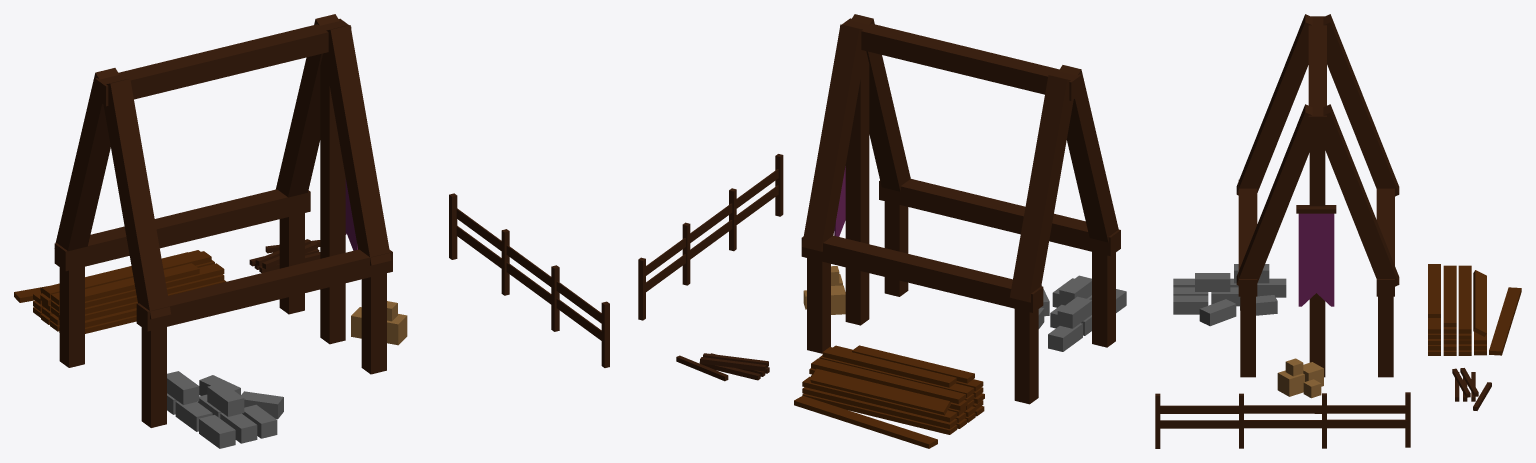
Rendered from PigPenBuildPhase2v1.fbx.
3 renders of one model, left to right at view 1: azimuth 30°, elevation 25°; view 2: azimuth 150°, elevation 25°; view 3: azimuth 270°, elevation 25°, orthographic. The views are drawn at different scales.
Parts seen in each view (by area): view 1: Cube.2666; view 2: Cube.2666; view 3: Cube.2666.
Part boxes in pixels (<box>): Cube.2666: <box>14,14,609,448</box>; Cube.2666: <box>638,14,1126,448</box>; Cube.2666: <box>1155,14,1521,448</box>.
Size of the model in its own units: 174 by 128 by 159.
